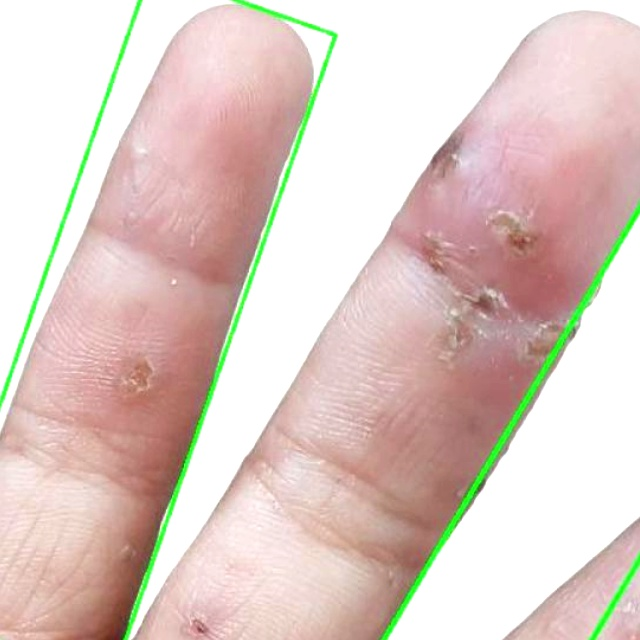Scabies: (0, 0, 639, 639), (0, 0, 335, 639), (374, 117, 639, 639)
